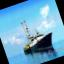fishing boat: (16, 24, 57, 57)
